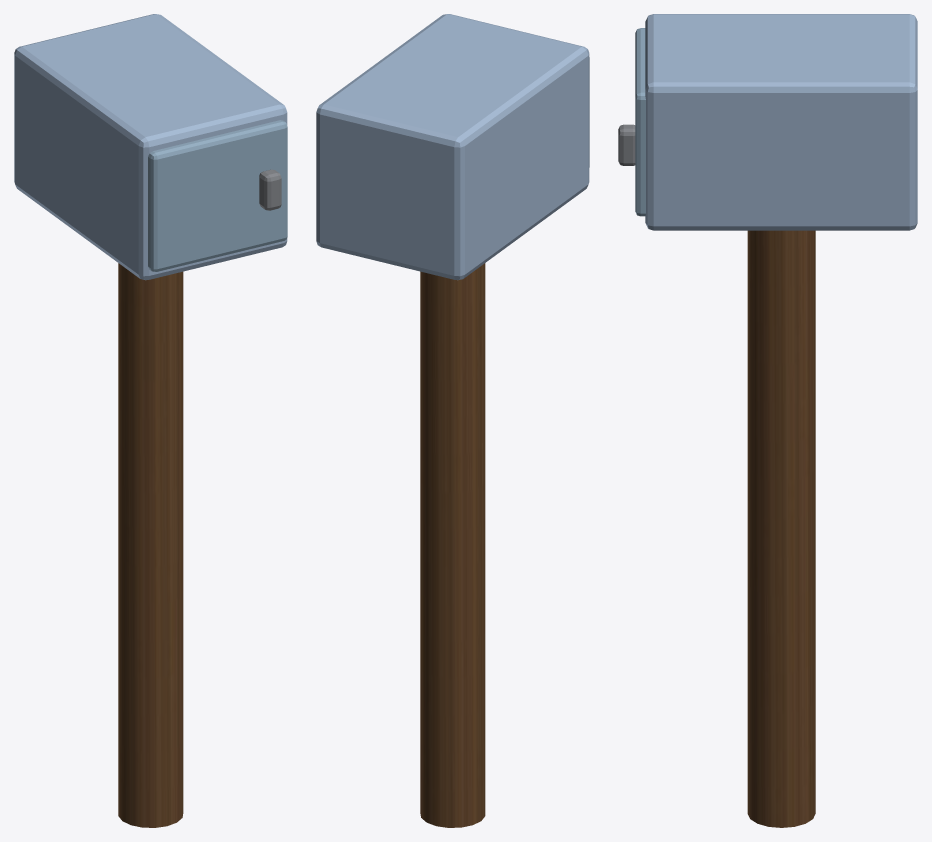
Rendered from mailbox.glb.
3 views of the same model, side by side, from view 1: azimuth 30°, elevation 25°; view 2: azimuth 150°, elevation 25°; view 3: azimuth 270°, elevation 25° (orthographic). The views are drawn at different scales.
Parts seen in each view (by area): view 1: body.010, post, part_door__mailbox; view 2: body.010, post; view 3: body.010, post, part_door__mailbox.
Part boxes in pixels (bbox=[...]): body.010: bbox=[14, 14, 287, 280]; post: bbox=[118, 263, 183, 827]; part_door__mailbox: bbox=[148, 120, 287, 271]; body.010: bbox=[316, 14, 589, 280]; post: bbox=[420, 263, 485, 827]; body.010: bbox=[645, 14, 917, 230]; post: bbox=[747, 230, 815, 827]; part_door__mailbox: bbox=[618, 28, 645, 216].
Size of the model in its own units: 0.26 by 1.24 by 0.44.
4 materials, 1 textured.
